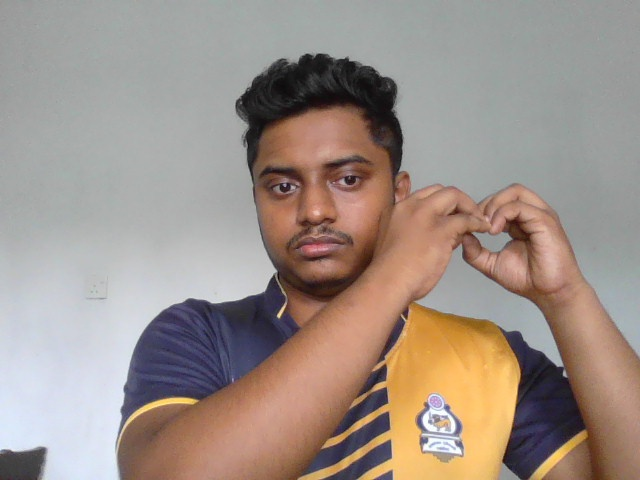More: (369, 183, 592, 308)
